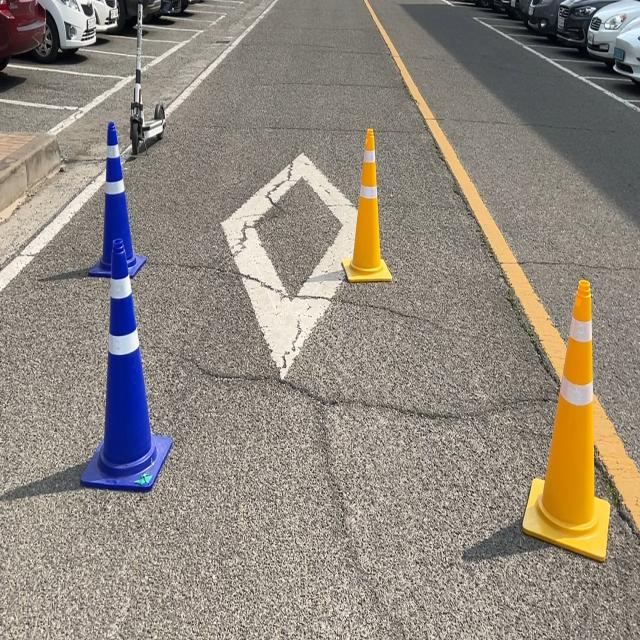b_rub: (80, 238, 172, 491), (88, 120, 146, 276)
y_rub: (524, 279, 611, 561), (342, 127, 393, 281)
